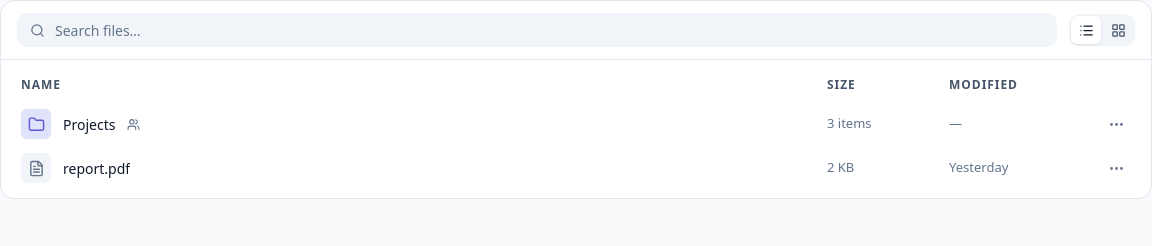
Test: FileManager › changes an uncontrolled view and reports the next value
Click the button named "Grid view" at (1118, 30), box [1103,16,1133,44]
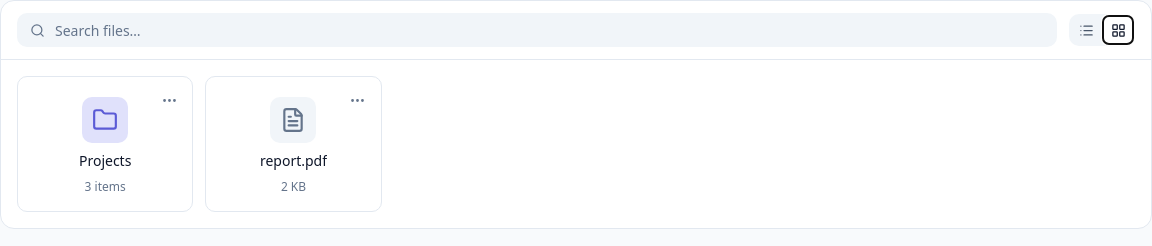
expect the element with class "lyra-fm__grid" is shown: met, box [17,76,382,212]
